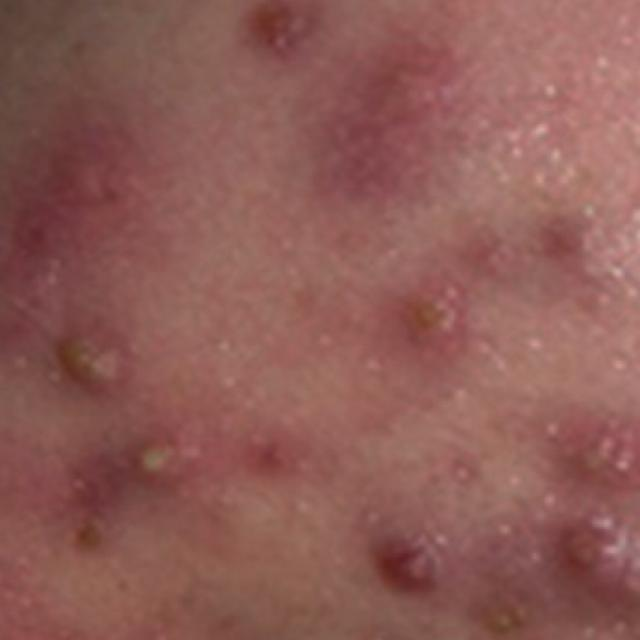acne: (516, 390, 640, 640), (44, 428, 220, 568), (0, 124, 120, 285), (332, 74, 496, 188), (366, 259, 502, 383), (522, 194, 638, 320), (346, 512, 459, 606), (46, 316, 146, 396), (237, 410, 311, 490), (242, 0, 336, 57)
